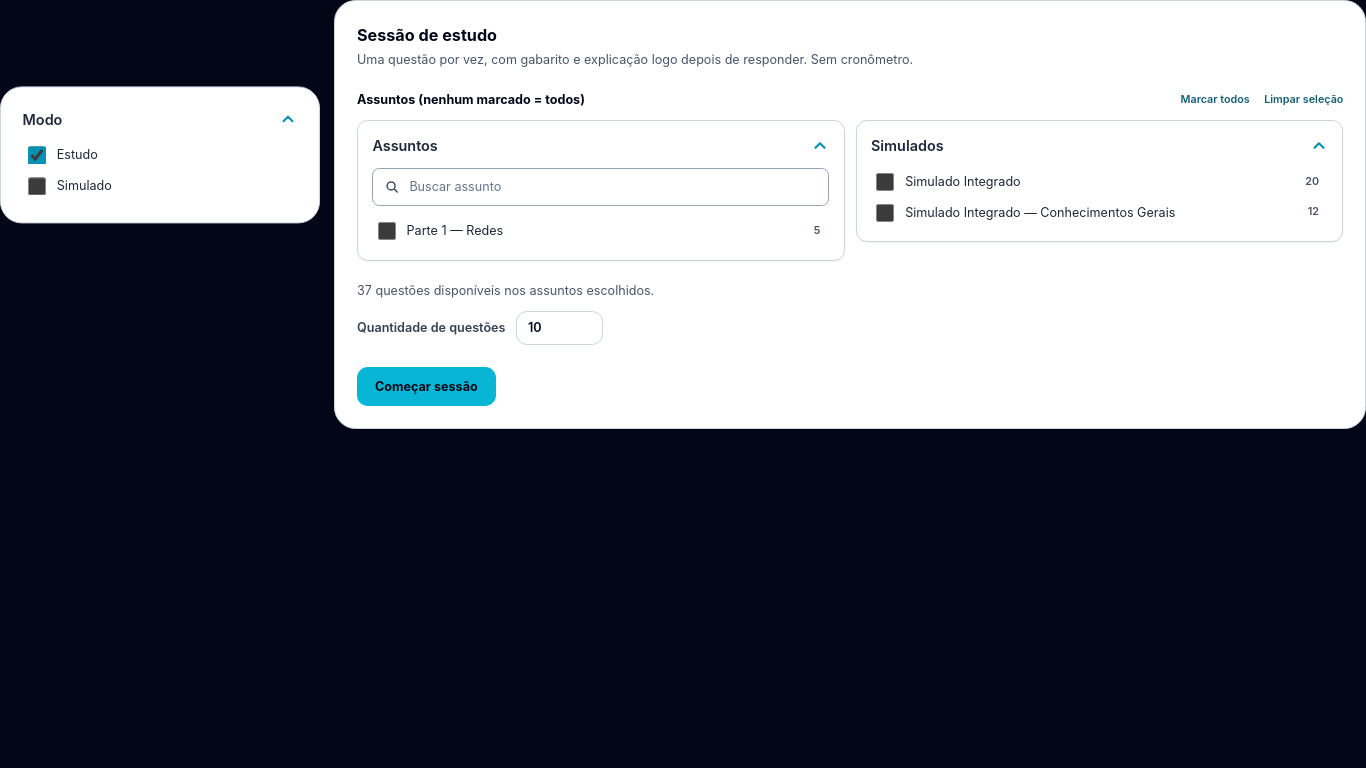
Scenario: PracticeHub › monta o simulado marcando os conjuntos de simulado, sem um atalho separado
This screenshot has width=1366, height=768.
Click the checkbox labelled "Simulado" at (37, 186), box [28,177,46,195]
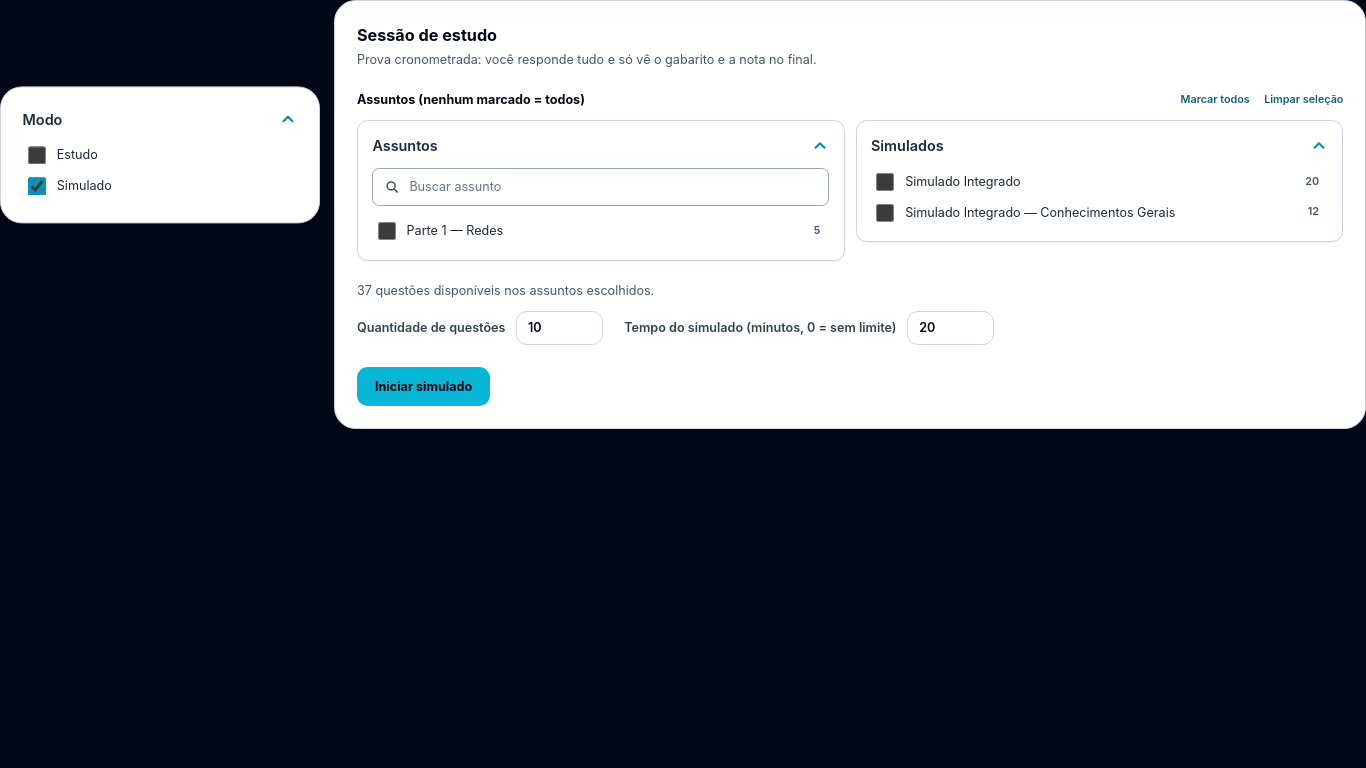
Click the checkbox labelled "Simulado Integrado 20" at (885, 182), box [876,173,894,191]
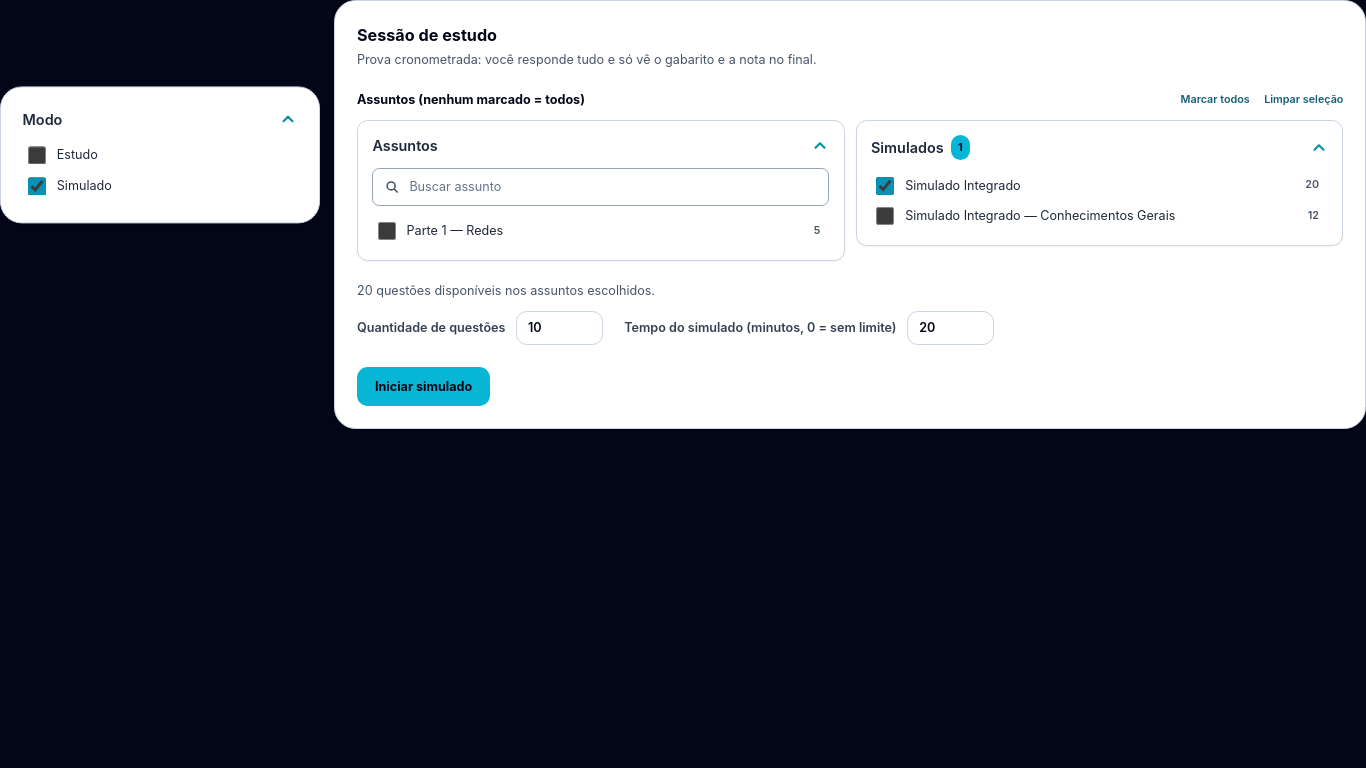
Click the checkbox labelled "Simulado Integrado — Conhecimentos Gerais 12" at (885, 216), box [876,207,894,225]
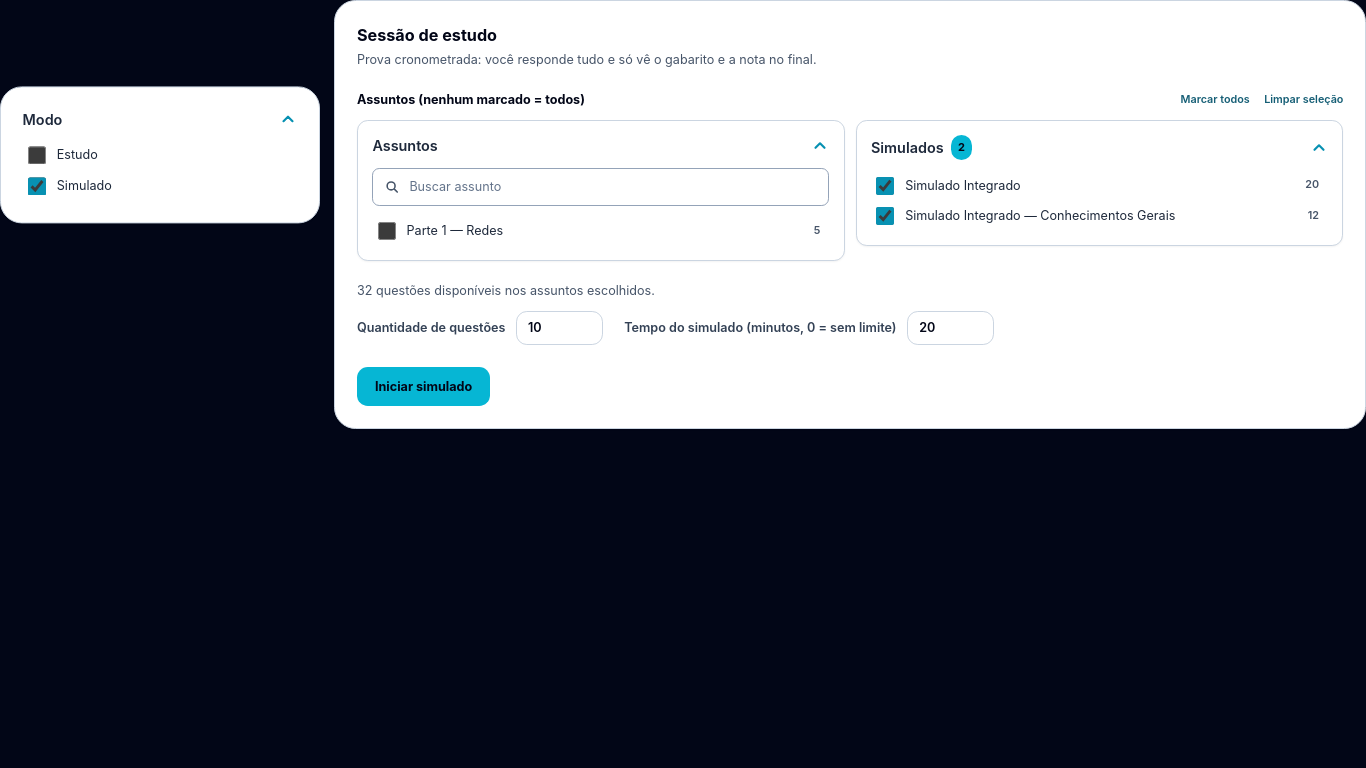
Now the checkbox labelled "Simulado" is checked, box [28,177,46,195]
Now the number field labelled "Tempo do simulado (minutos, 0 = sem limite)" holds "20", box [907,311,994,345]
Now the text "32 questões disponíveis nos assuntos escolhidos." is shown, box [357,283,655,298]
Click the button "Iniciar simulado" at (424, 387), box [357,367,490,406]
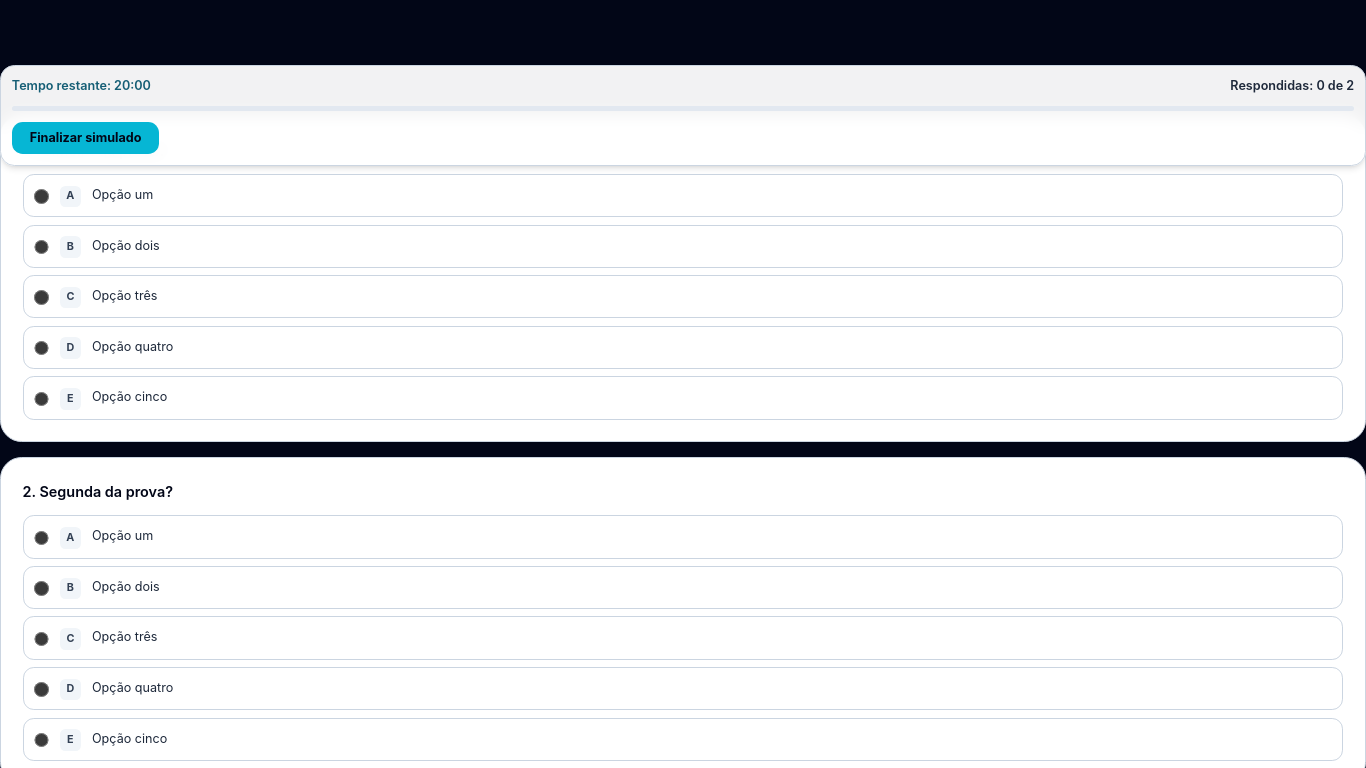
Now the text "1. Primeira da prova?" is shown, box [23,142,166,159]
Now the text "Tempo restante: 20:00" is shown, box [12,77,151,95]
